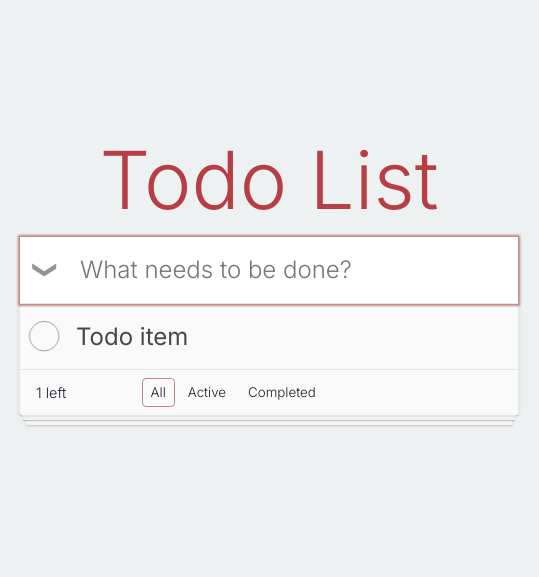
Test: Testing Todos › should render multiple todos when user add them
Type "Todo Item 1" into the field with placeholder "What needs to be done?" at (269, 270), box 20,237 -> 518,304
Submit the form from the field with placeholder "What needs to be done?", box 20,237 -> 518,304
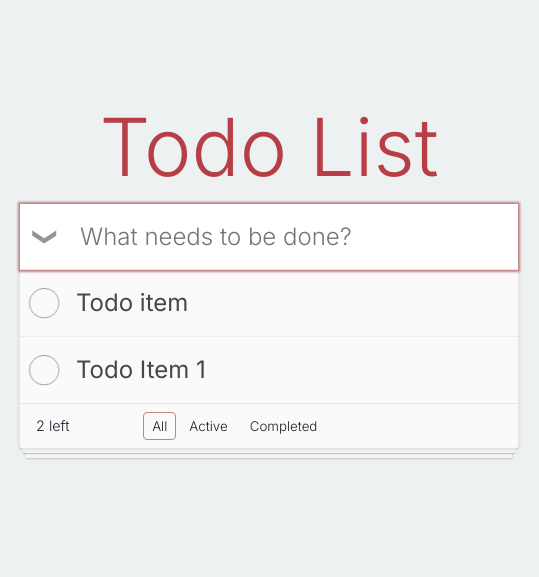
Expected: the text "Todo Item 1" is shown, 76,355 -> 206,384
Type "Todo Item 2" into the field with placeholder "What needs to be done?" at (269, 237), box 20,204 -> 518,270
Submit the form from the field with placeholder "What needs to be done?", box 20,204 -> 518,270
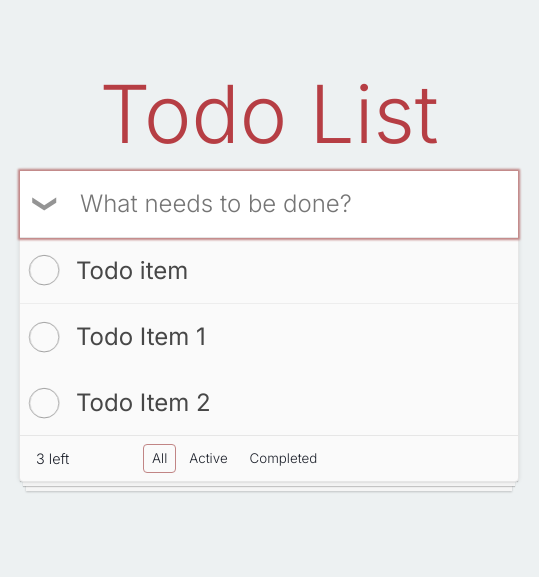
Result: the text "Todo Item 2" is shown at 76,388 -> 211,417
Type "Todo Item 3" into the field with placeholder "What needs to be done?" at (269, 204), box 20,171 -> 518,238
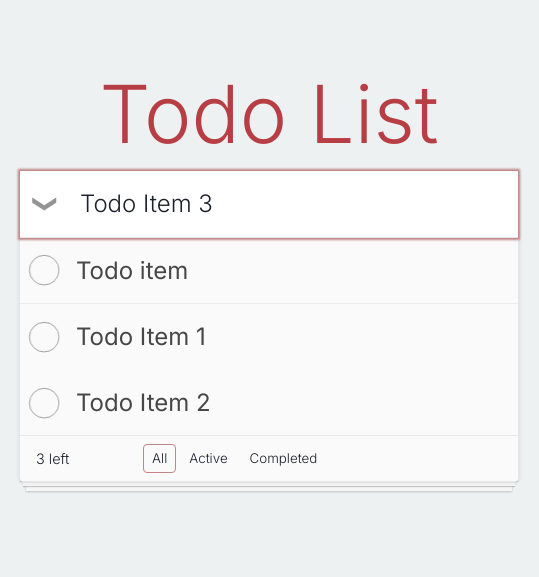
Submit the form from the field with placeholder "What needs to be done?", box 20,171 -> 518,238
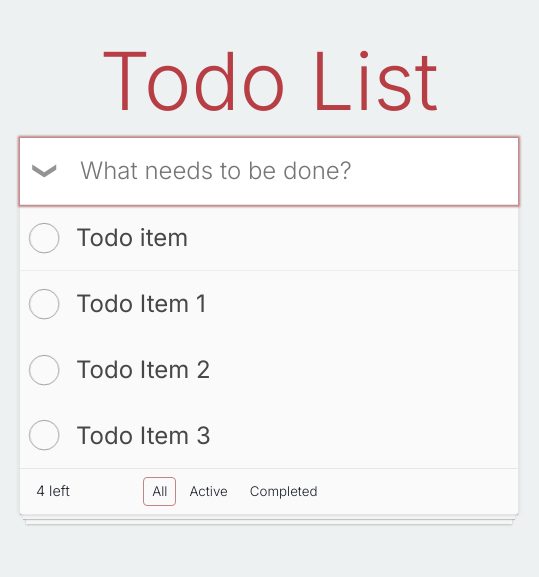
Result: the text "Todo Item 3" is shown at 76,421 -> 211,450
Type "Todo Item 4" into the field with placeholder "What needs to be done?" at (269, 172), box 20,138 -> 518,205
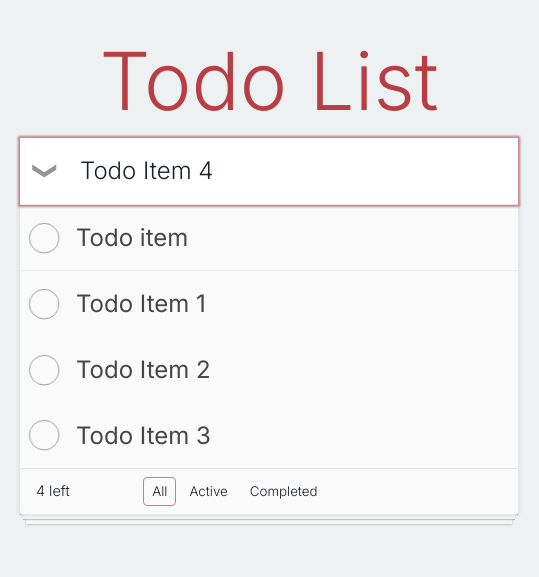
Submit the form from the field with placeholder "What needs to be done?", box 20,138 -> 518,205
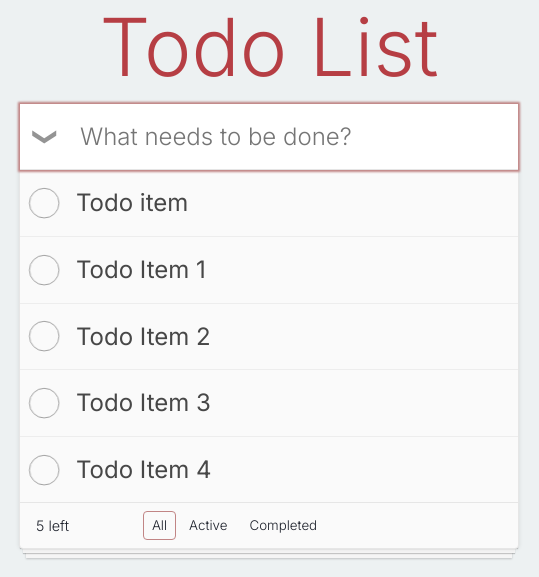
Result: the text "Todo Item 4" is shown at 76,455 -> 212,484
